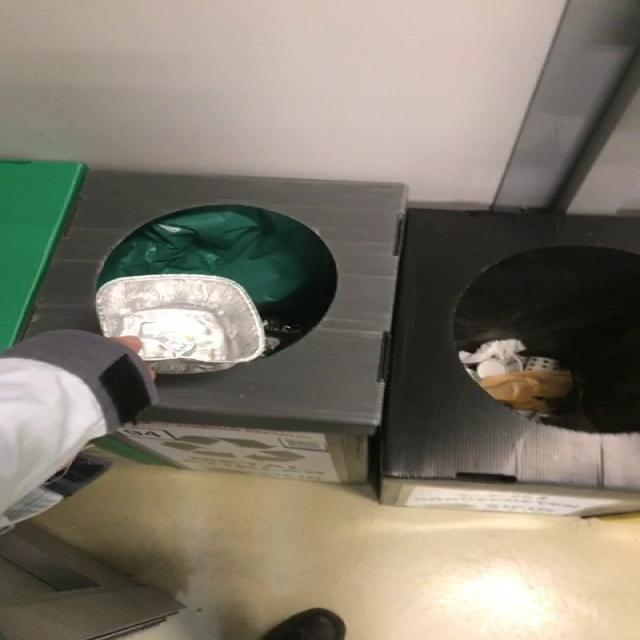metal: (96, 275, 265, 374)
